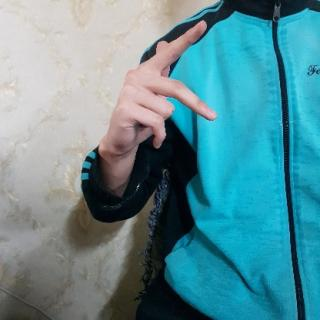DHAA: (90, 20, 222, 168)
